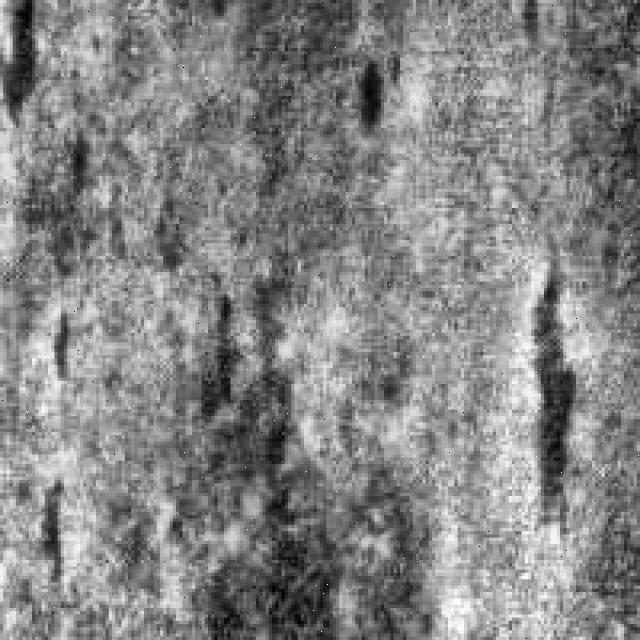Patches: (182, 346, 416, 628), (515, 250, 589, 538), (348, 44, 419, 148), (38, 476, 96, 602), (6, 0, 61, 115)
